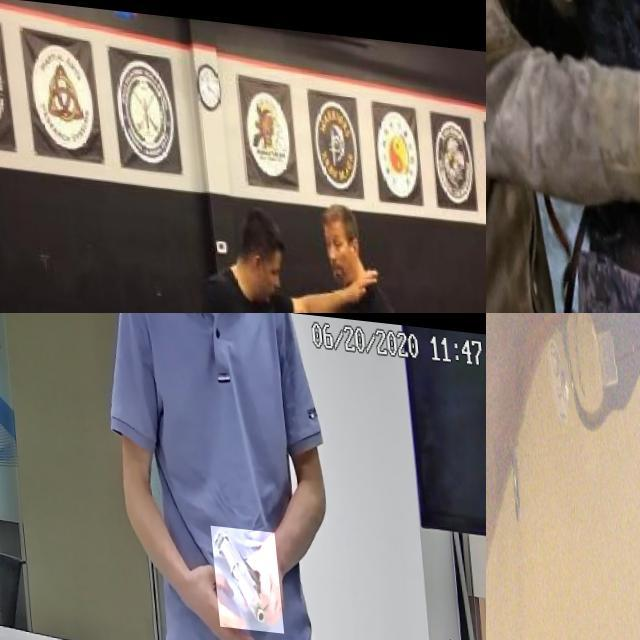gun-knife-thesis - v11 Yolov5 augmented: (486, 313, 640, 640), (206, 518, 278, 624)
